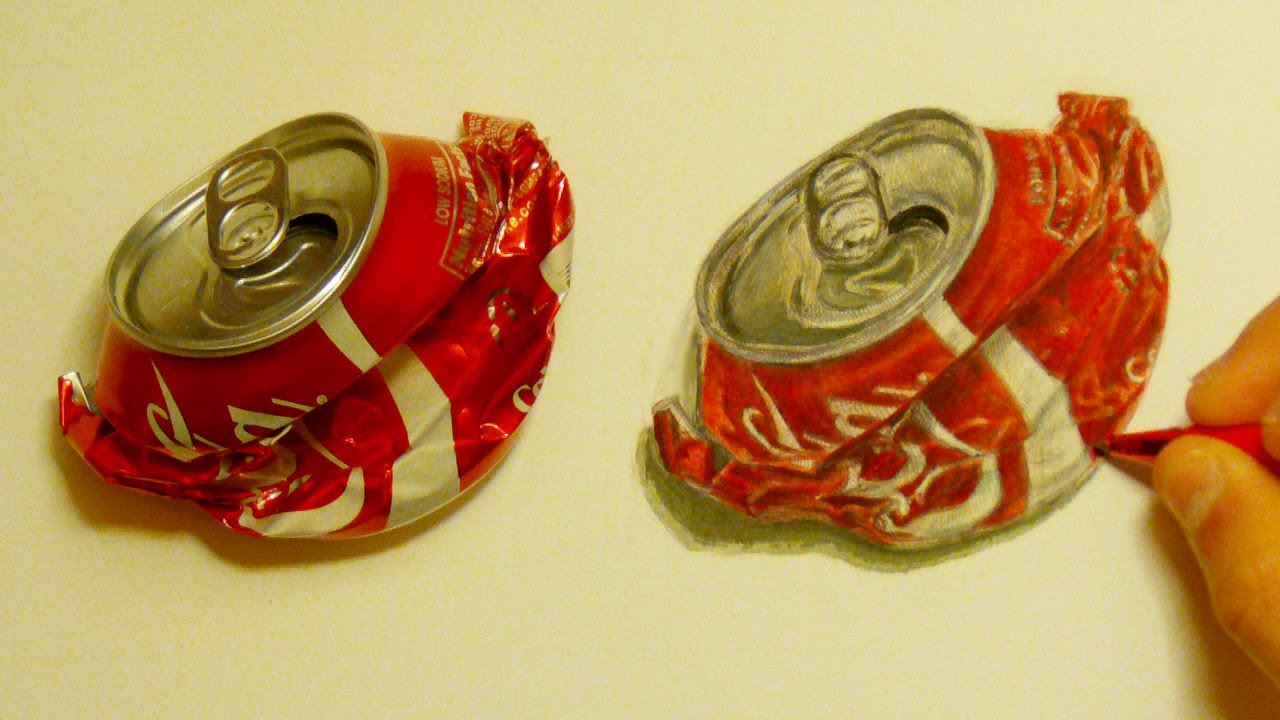can: (53, 107, 580, 545)
